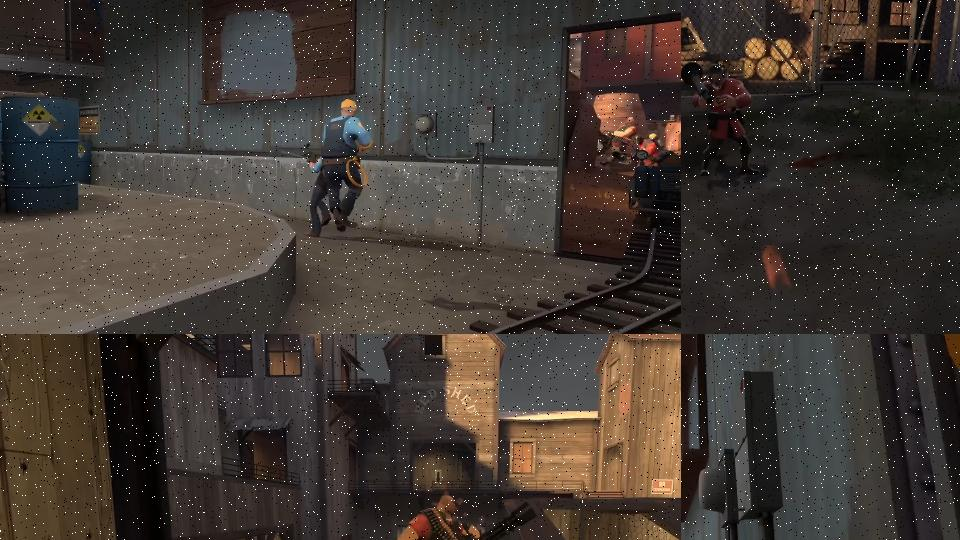Enemy: (681, 60, 761, 177), (321, 98, 373, 233), (394, 494, 535, 540), (282, 142, 332, 238), (596, 116, 638, 168), (612, 133, 665, 167)
